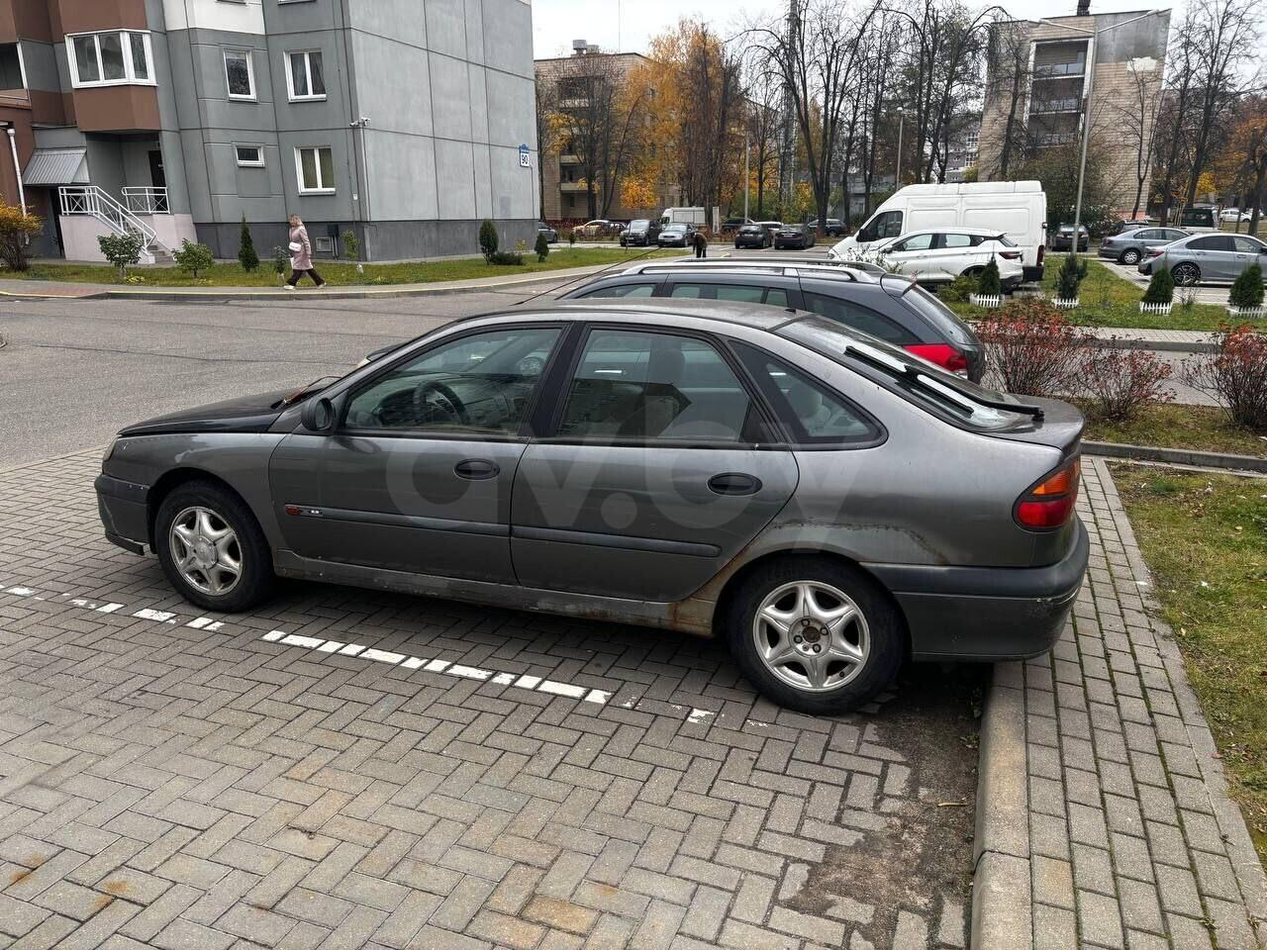Lahuna_1993-1999: (94, 298, 1100, 715)
